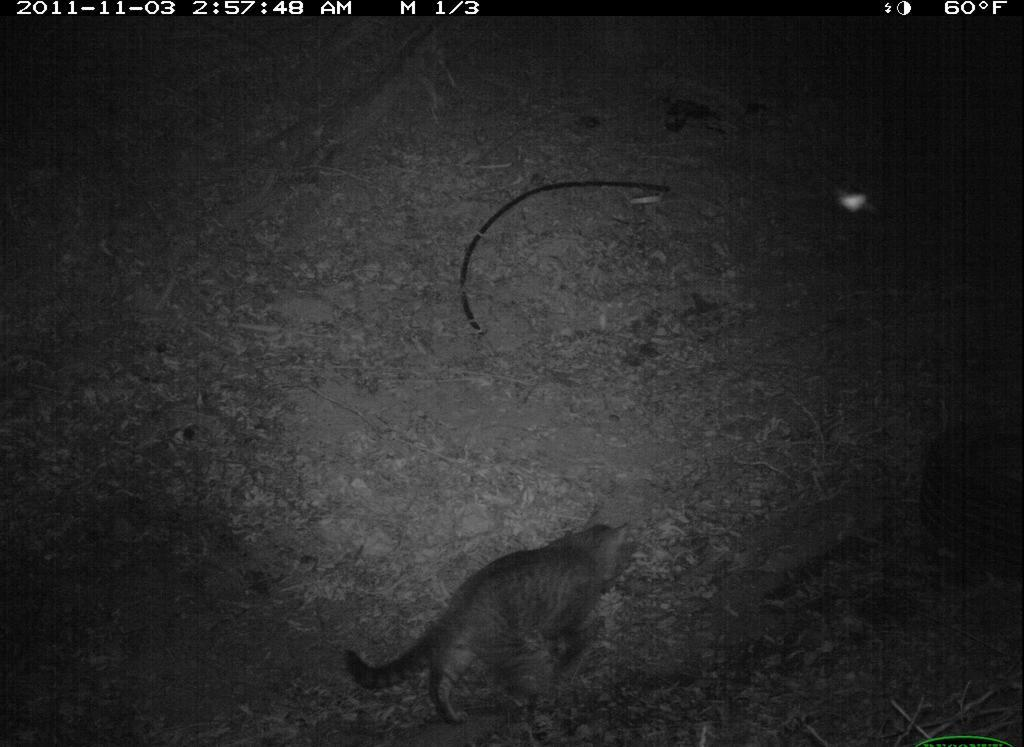cat: (334, 501, 640, 738)
